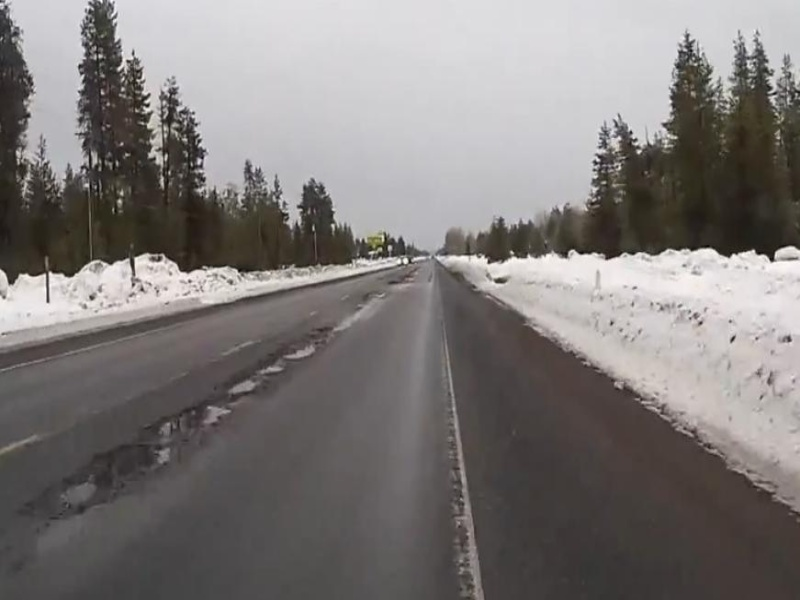pothole: (52, 446, 173, 510), (154, 404, 238, 438), (222, 373, 267, 395)
